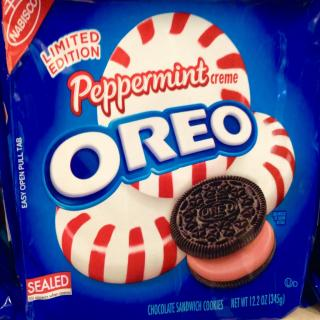Cookie: (168, 175, 268, 258), (185, 219, 277, 290)
